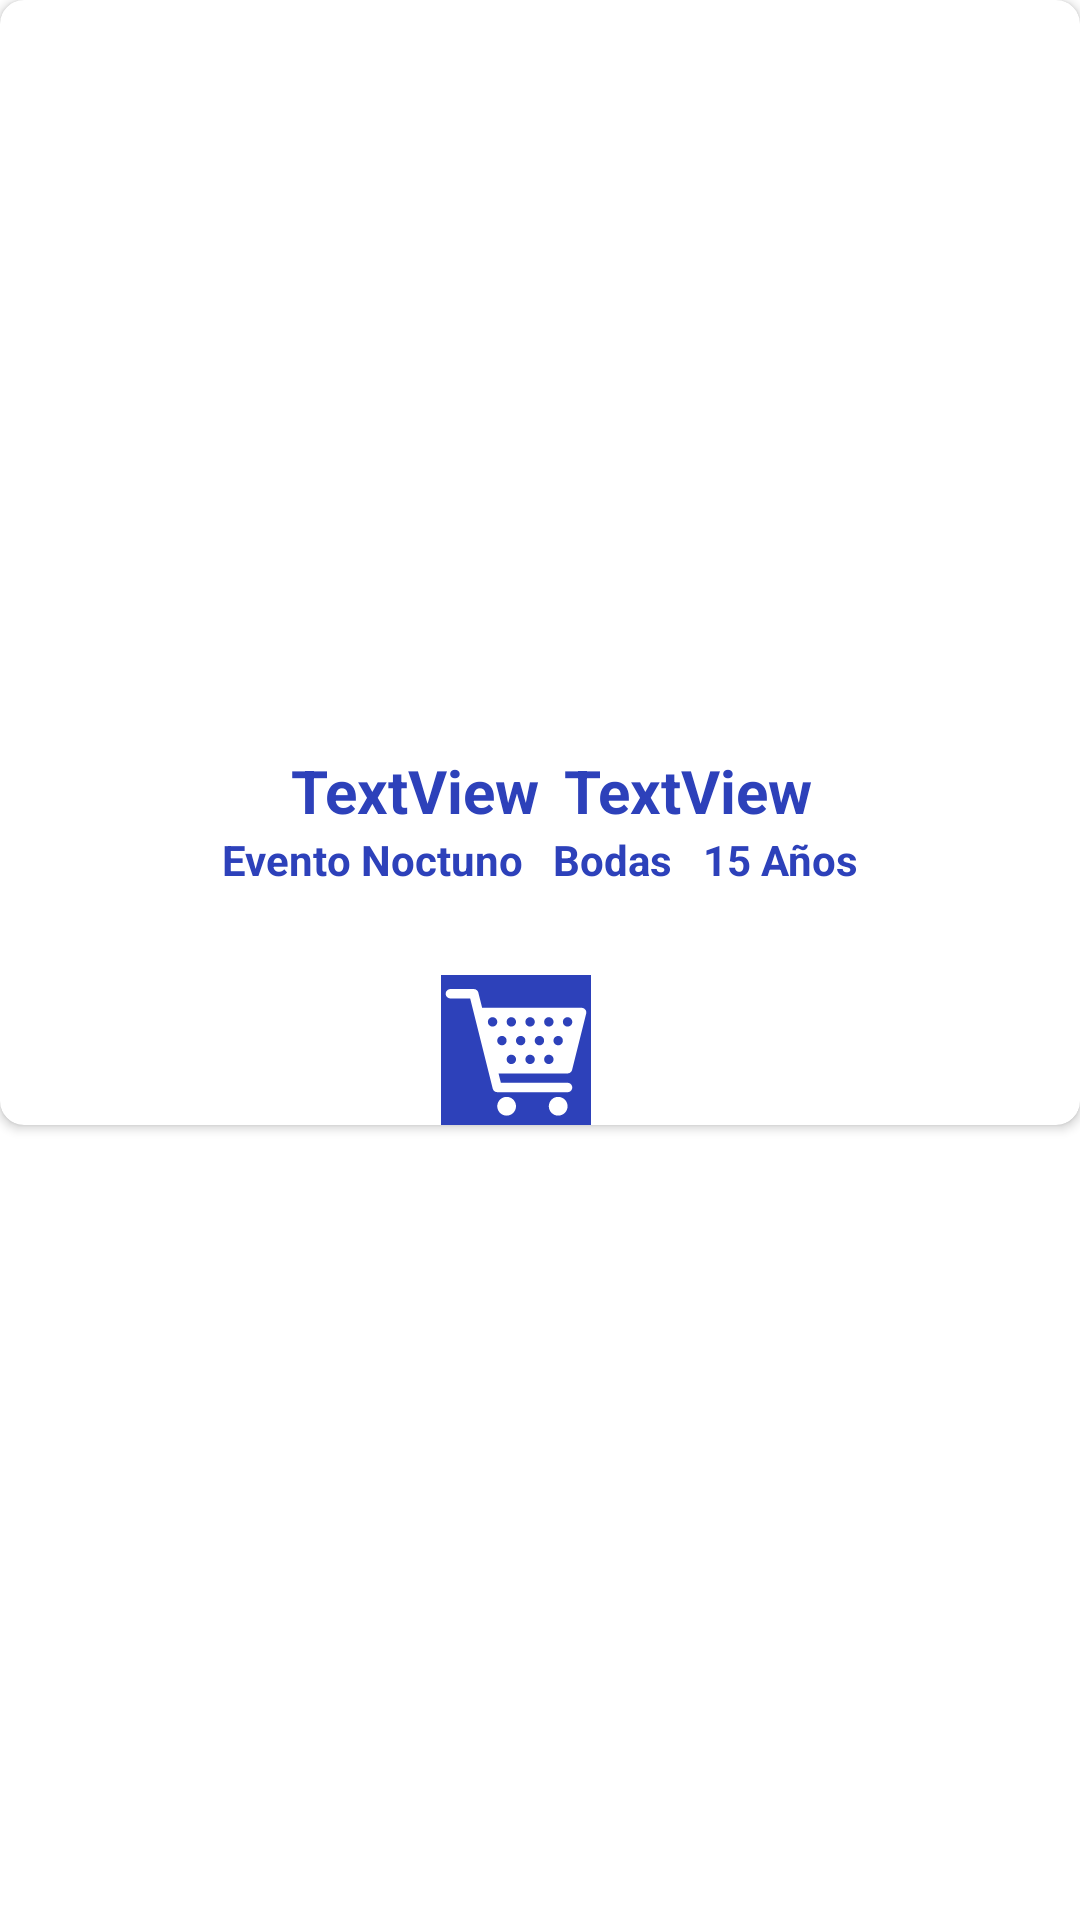

Named icons in this screenshot (1080*1920) and their centers, (x,y):
carrito: (516,1050)
